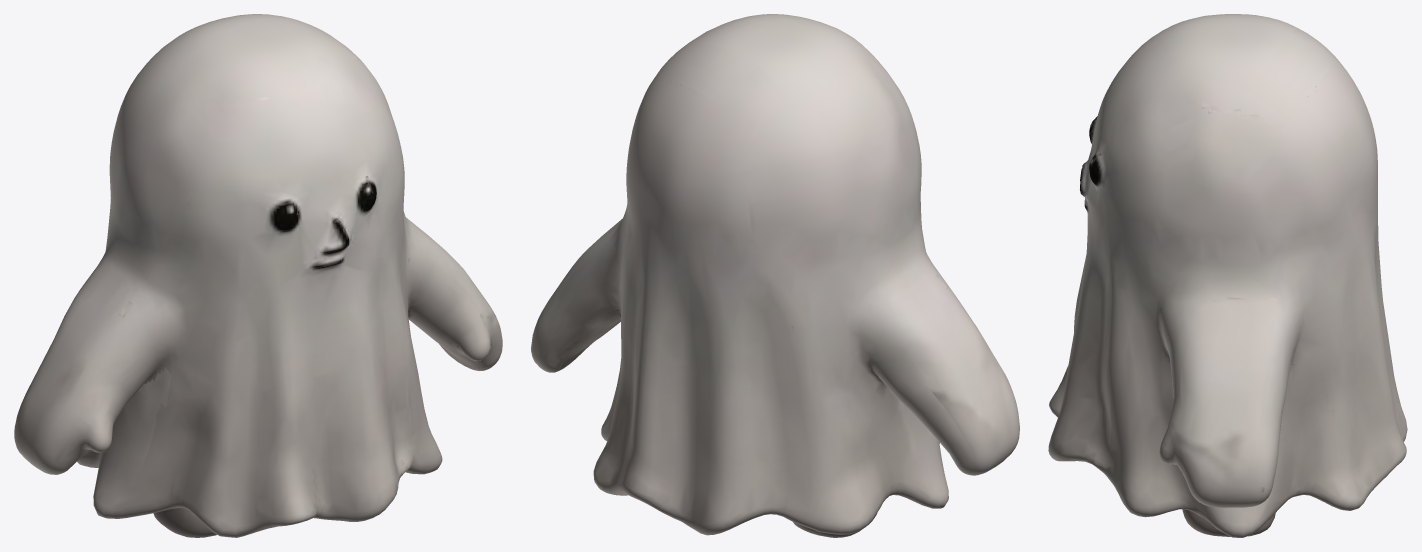
The model's file is 16_ghost_lantern.glb.
3 renders of one model, left to right at view 1: azimuth 30°, elevation 25°; view 2: azimuth 150°, elevation 25°; view 3: azimuth 270°, elevation 25°, orthographic. The views are drawn at different scales.
Parts seen in each view (by area): view 1: Mesh_0; view 2: Mesh_0; view 3: Mesh_0.
Boxes of the visible parts, left/top/right/bottom form: Mesh_0: left=14, top=14, right=502, bottom=537; Mesh_0: left=531, top=14, right=1019, bottom=537; Mesh_0: left=1048, top=14, right=1407, bottom=537.
Size of the model in its own units: 1.91 by 1.88 by 1.31.
1 material, 1 textured.
